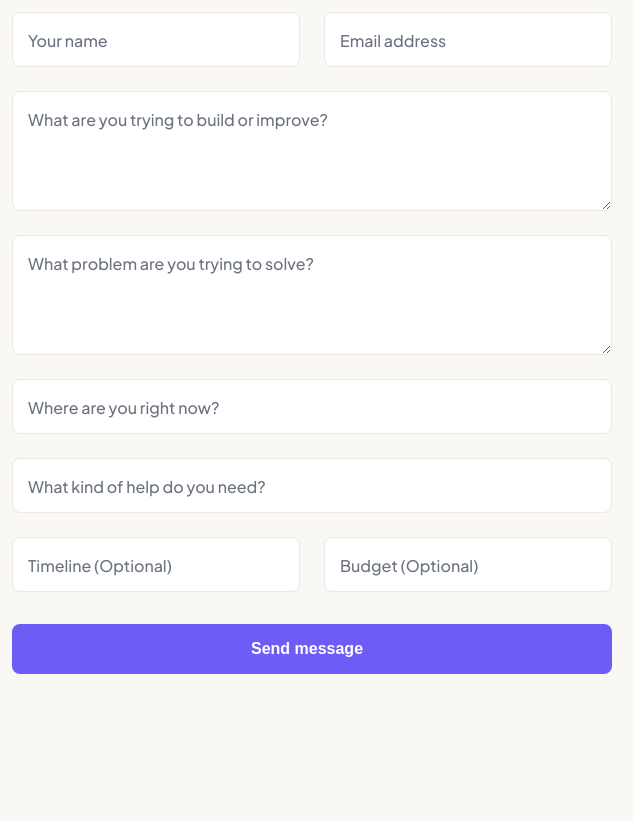
Scenario: ContactForm › validates email format
This screenshot has width=633, height=821.
In the field labelled "Email address": coordinates (468, 40) [324,12,612,67], type "invalid-email"
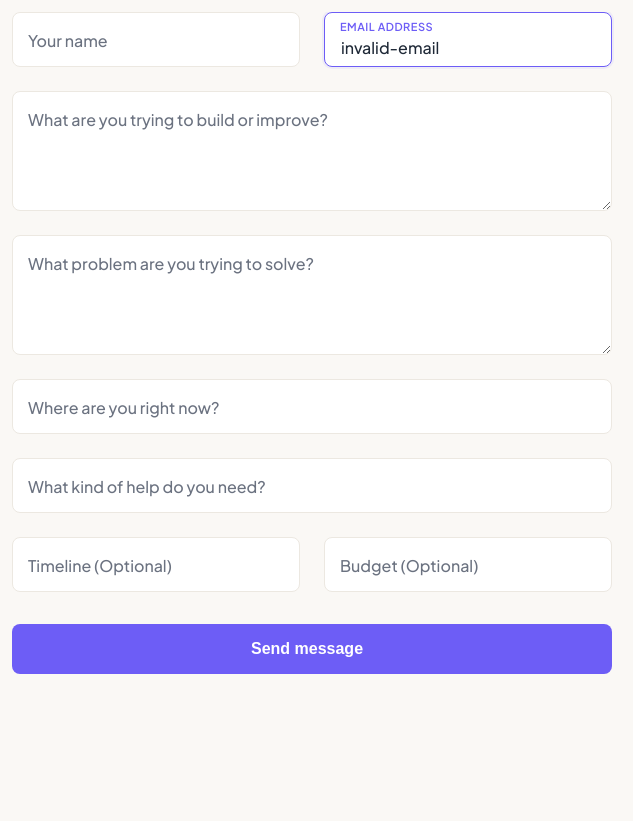
Click the button "Send message": coordinates (312, 649) [12,624,612,674]
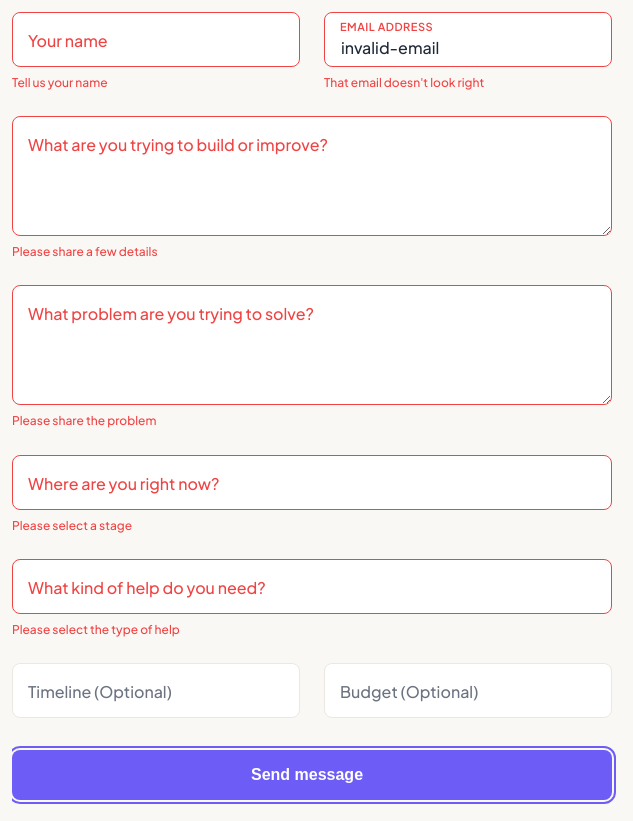
Expected: the text "That email doesn't look right" is shown, [324,75,484,90]
